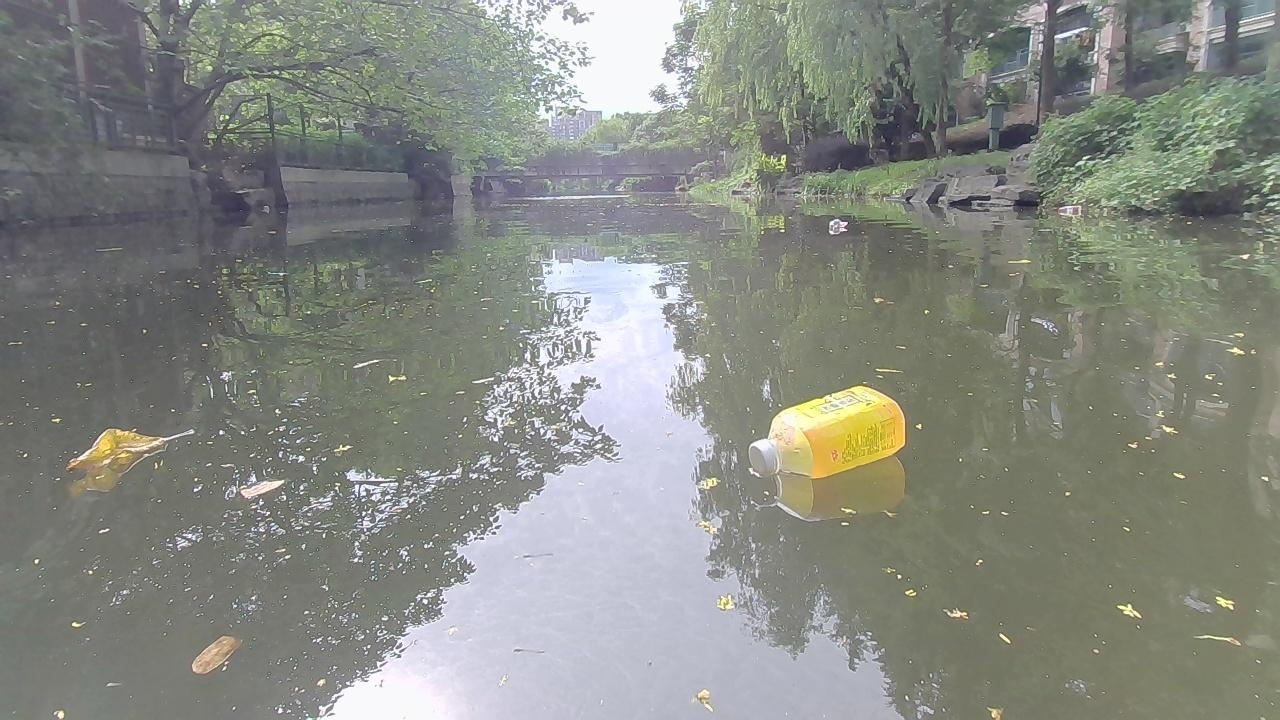bottle: (738, 382, 908, 481), (824, 218, 850, 230), (1057, 203, 1082, 214)
